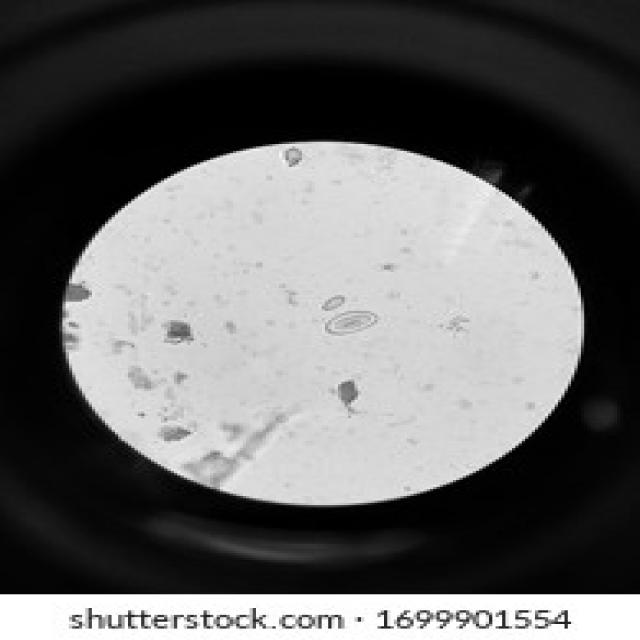Enterobius Vermicularis: (320, 309, 382, 338)
